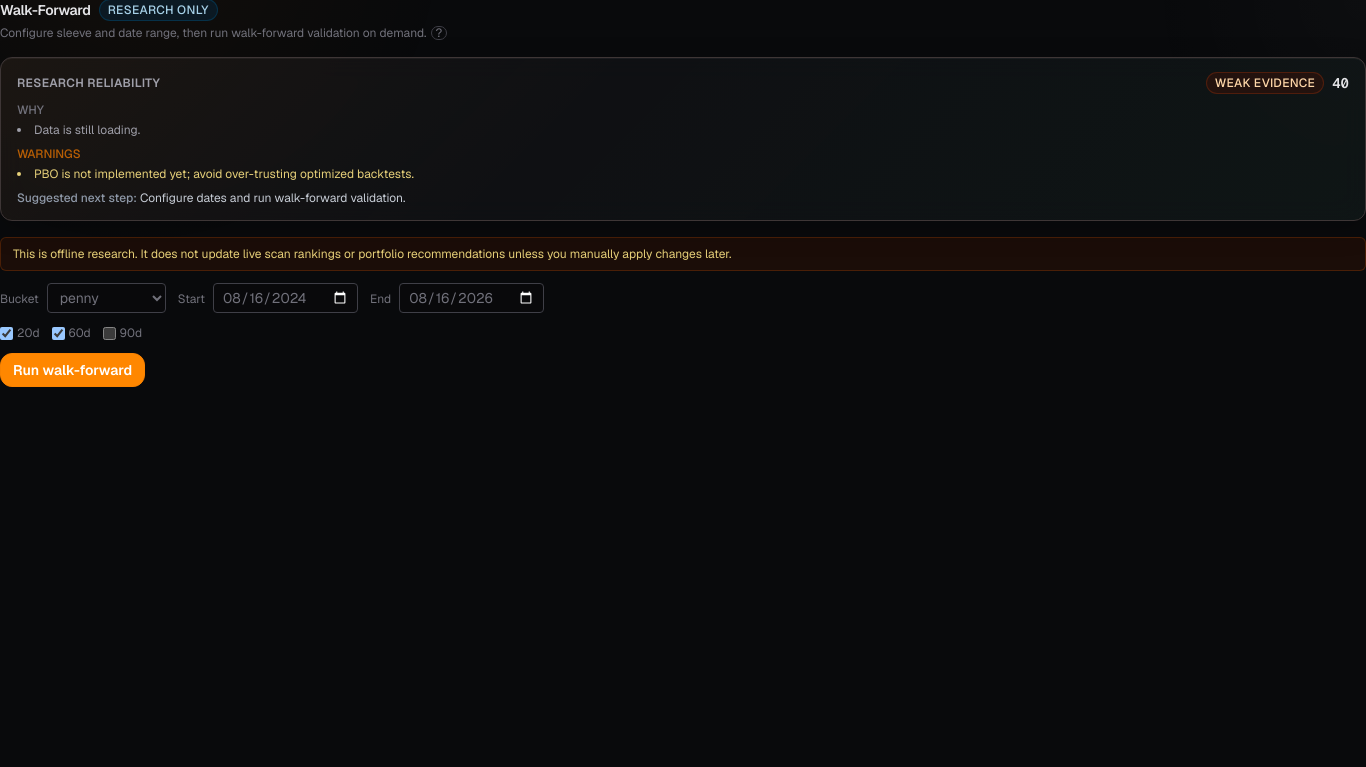
Test: Quant Lab tabs › WalkForwardTab › shows empty periods state when periods_scored is 0
Click the button "Run walk-forward" at (73,370), box [0,353,145,387]
(page scrolled)
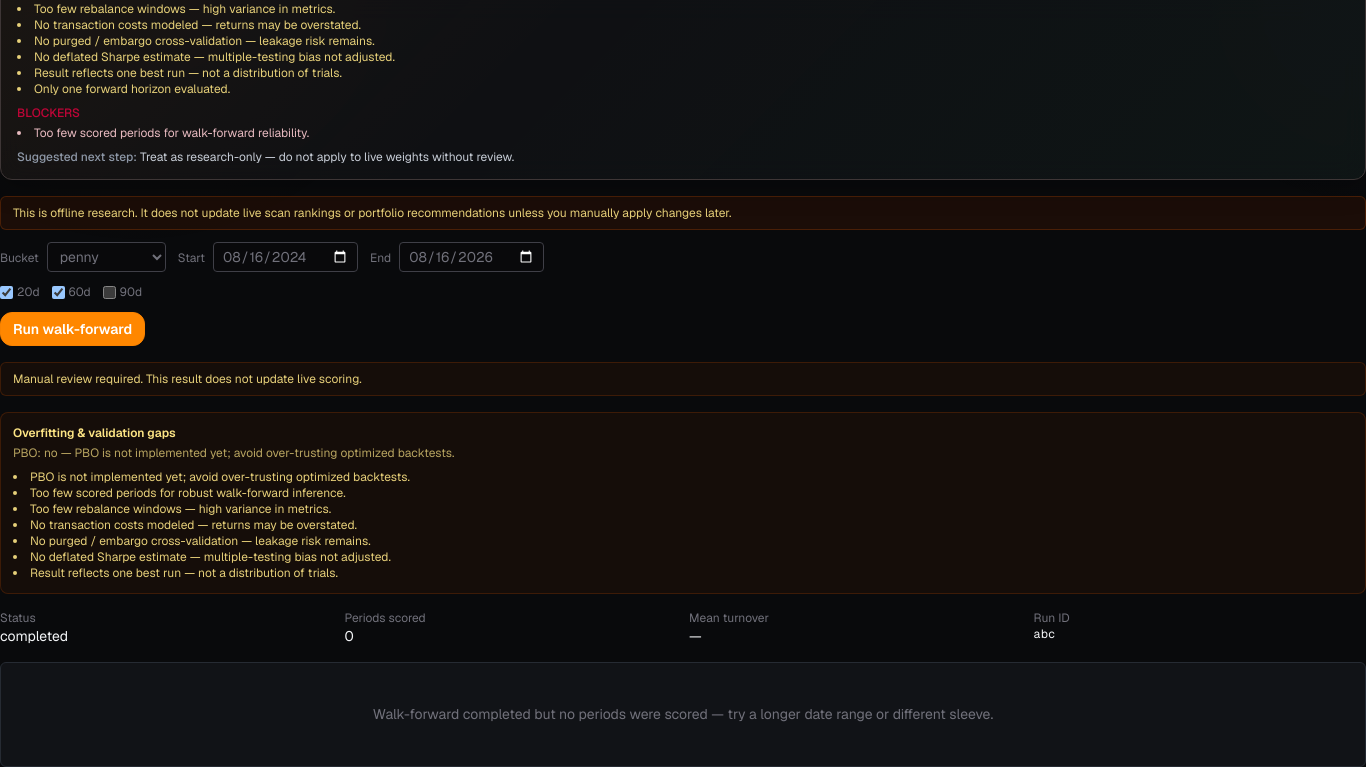
Expected: the text "Walk-forward completed but no periods were scored — try a longer date range or different sleeve." is shown, [373,705,993,723]
